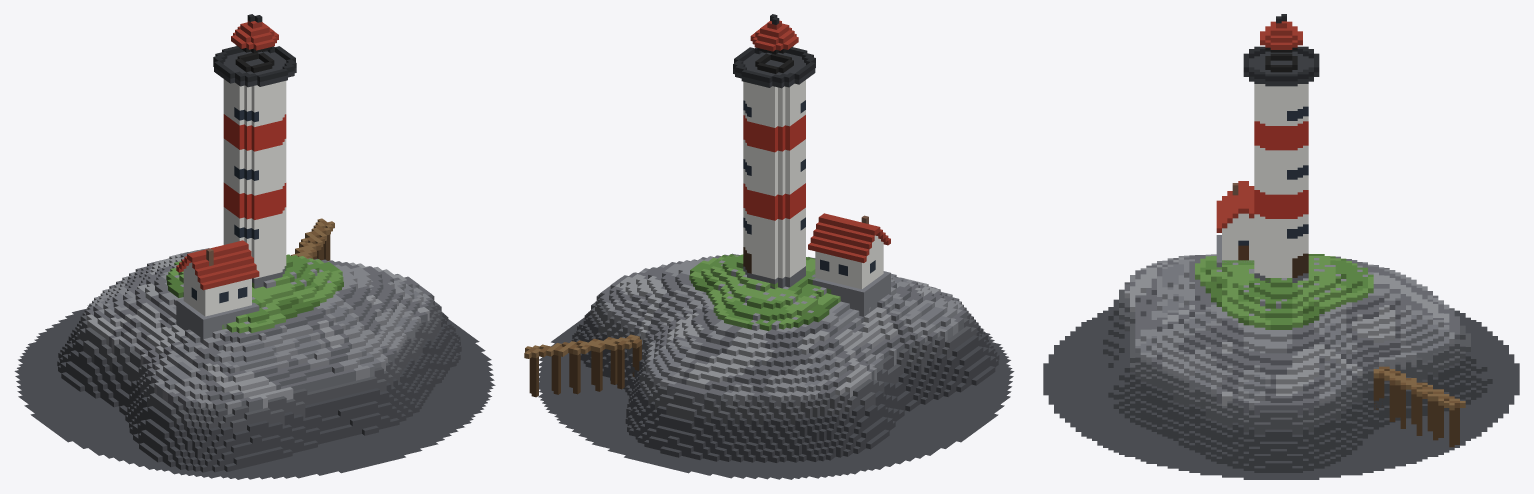
File: lighthouse.gltf
The picture shows the model from 3 angles, left to right: view 1: azimuth 30°, elevation 25°; view 2: azimuth 150°, elevation 25°; view 3: azimuth 270°, elevation 25°; orthographic projection.
Parts seen in each view (by area): view 1: lighthouse; view 2: lighthouse; view 3: lighthouse.
Part boxes in pixels (left/top/right/bottom): lighthouse: left=14, top=14, right=495, bottom=479; lighthouse: left=524, top=14, right=1014, bottom=479; lighthouse: left=1043, top=14, right=1519, bottom=479.
Size of the model in its own units: 44 by 37 by 44.
